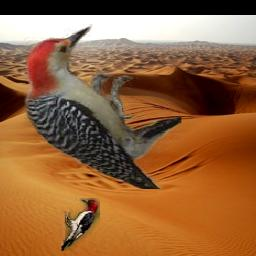Woodpecker: (19, 25, 180, 190), (60, 199, 99, 252)
